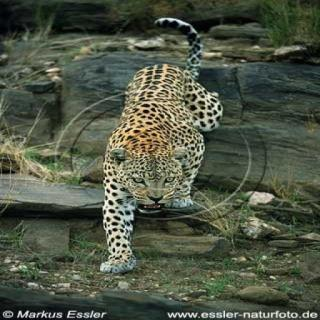Leopard: (88, 17, 227, 289)
